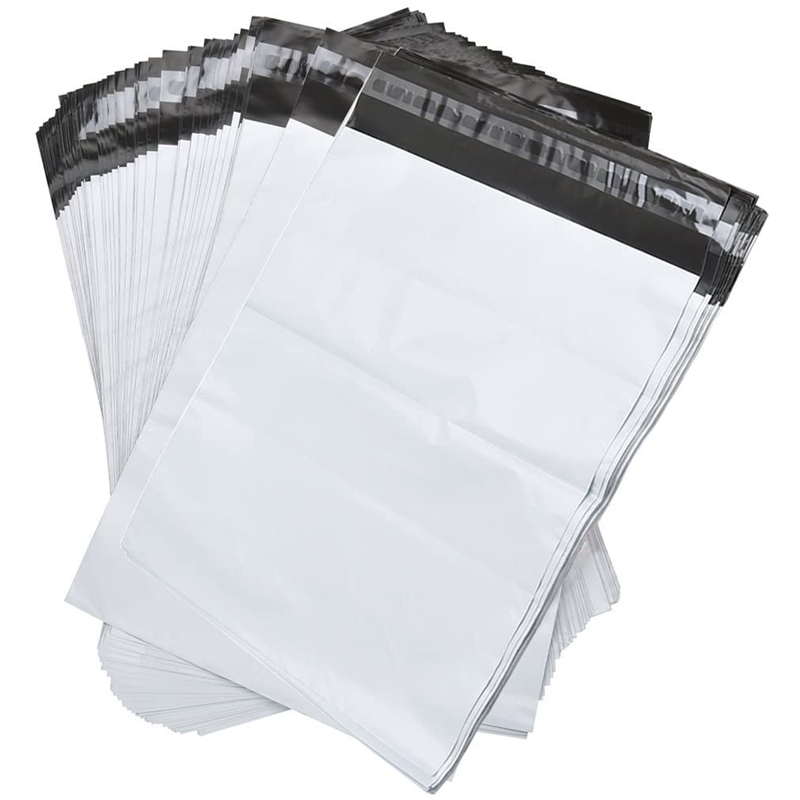Parcel: (38, 18, 765, 792)
